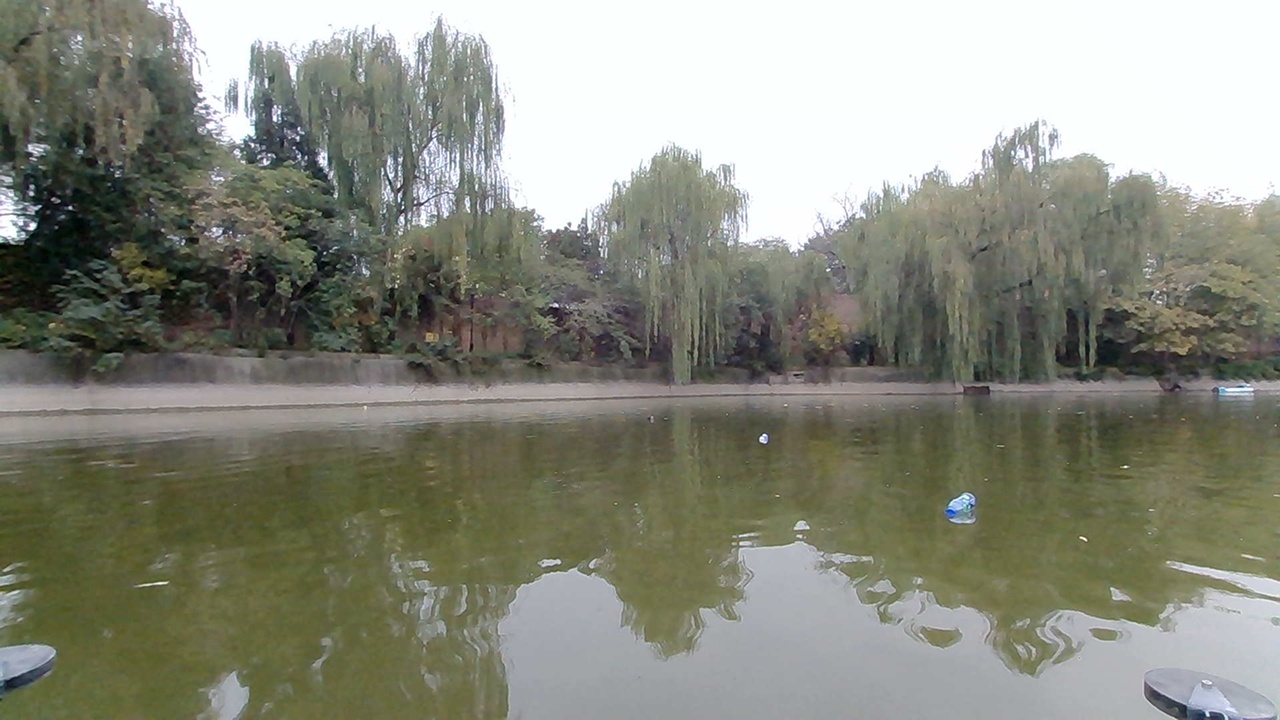bottle: (932, 482, 990, 532), (741, 415, 780, 444), (637, 405, 665, 431)
